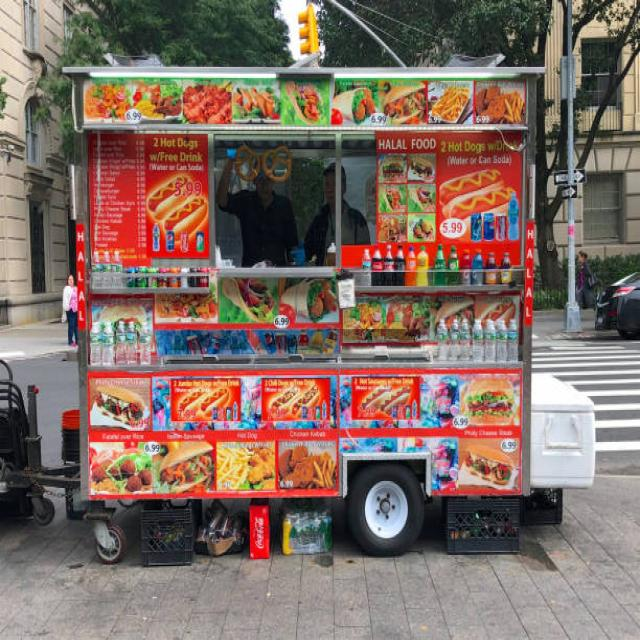Emperan: (58, 48, 558, 580)
